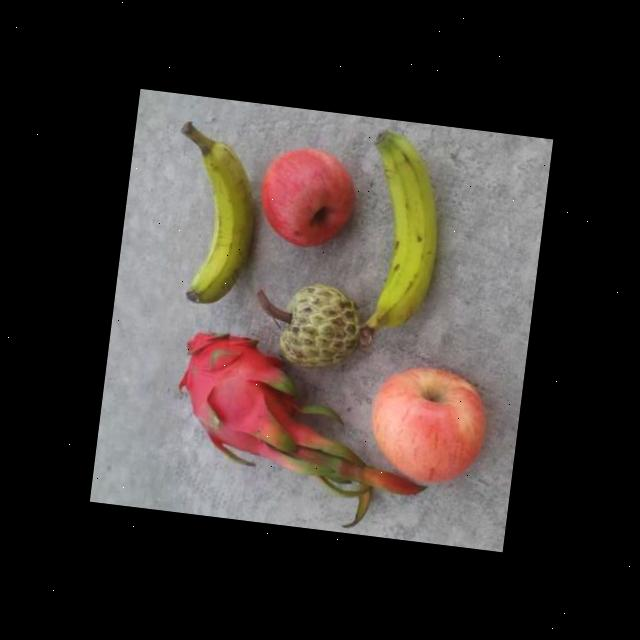Sakya fruit: (272, 278, 370, 374)
apple: (363, 359, 492, 491), (254, 141, 364, 252)
banana: (347, 125, 452, 352), (157, 122, 264, 314)
pitaya: (168, 322, 318, 474)
